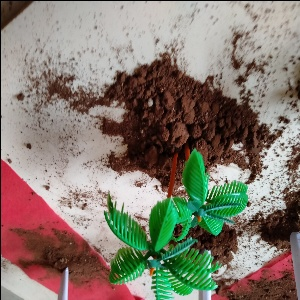plant: (97, 145, 256, 297)
